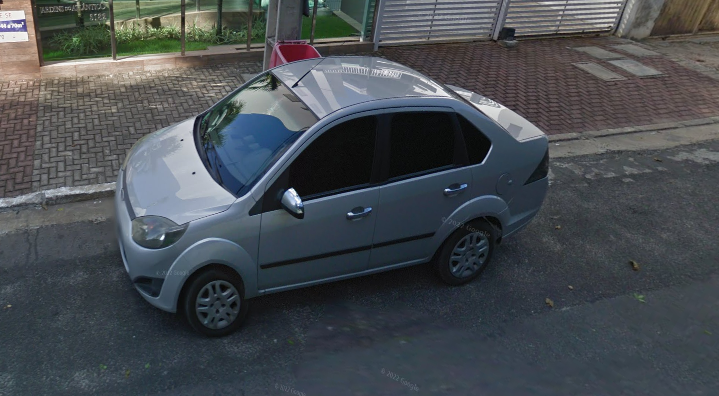car: (110, 45, 554, 341)
